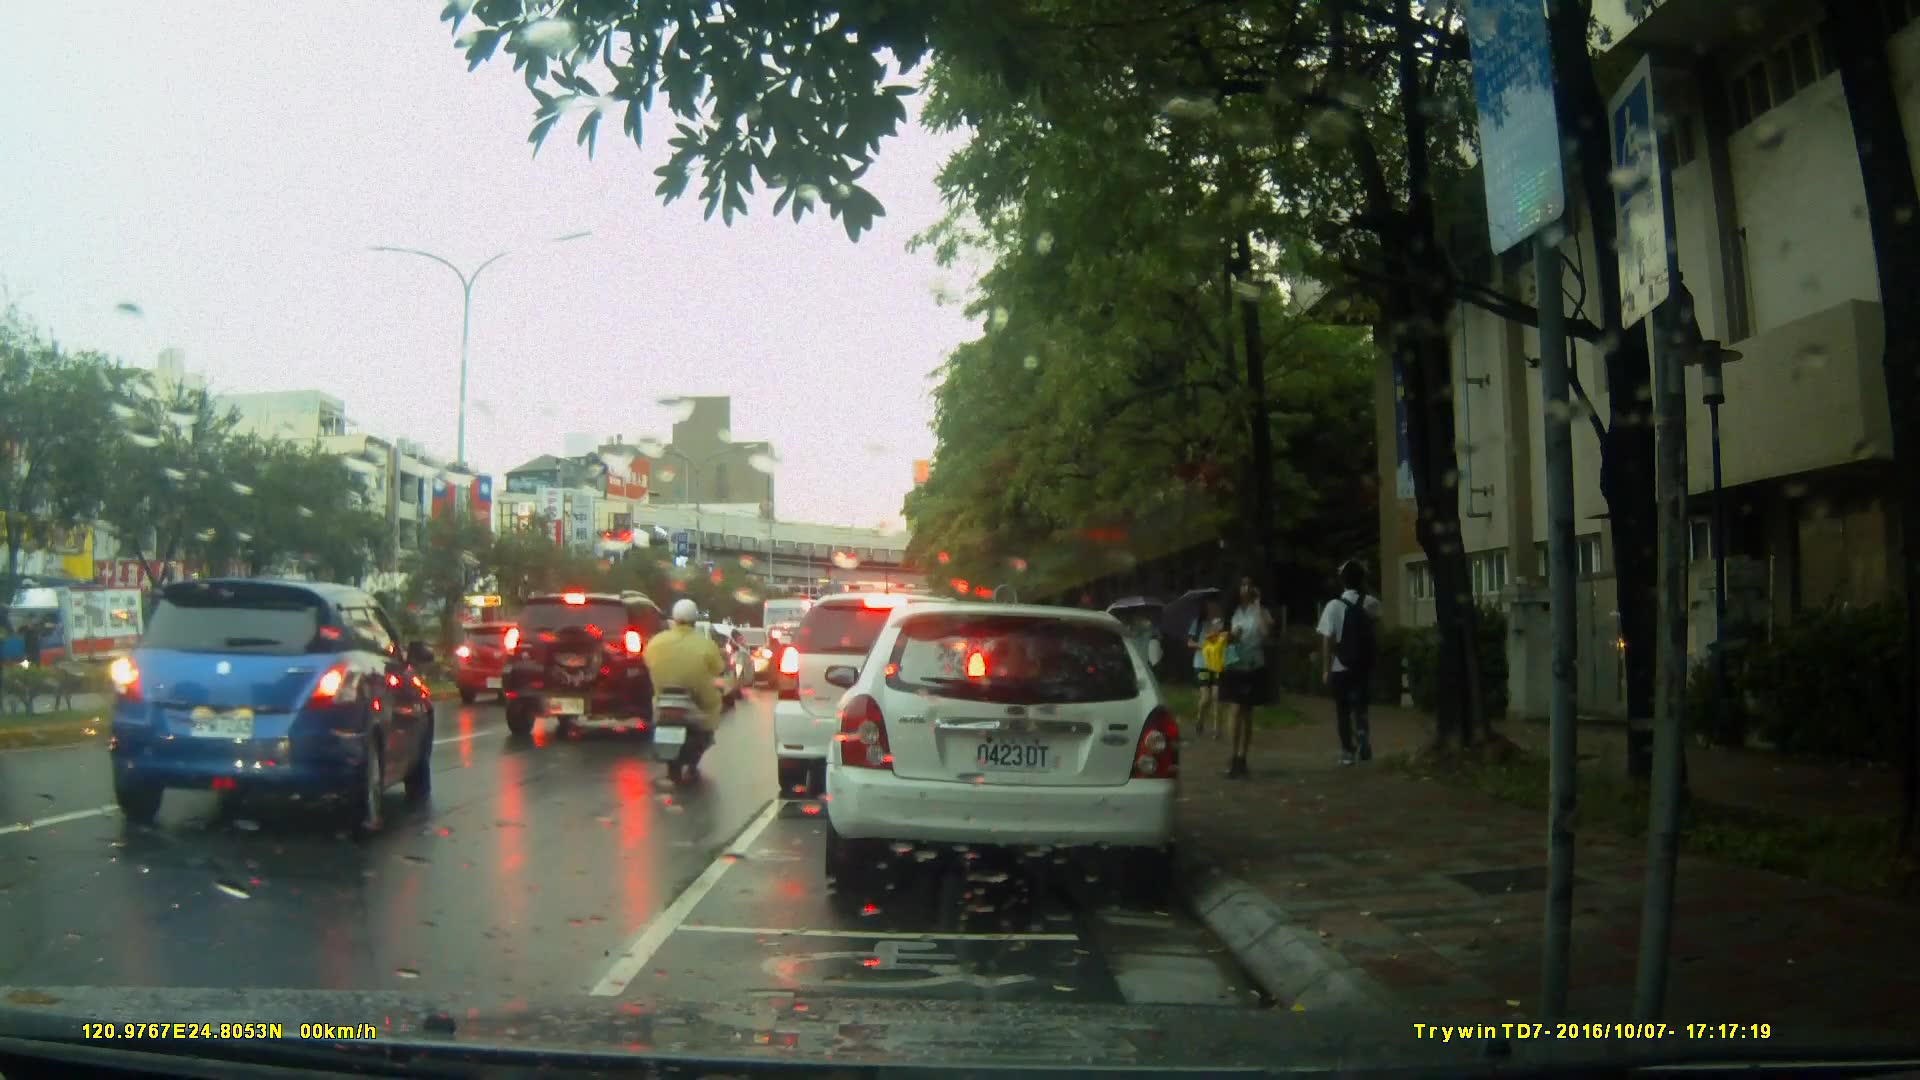pedestrian: (1306, 552, 1388, 775), (1206, 556, 1278, 785), (1183, 588, 1227, 744)
rider: (647, 601, 733, 775)
vehicle: (815, 593, 1203, 907), (104, 580, 439, 840), (771, 590, 995, 802), (502, 591, 693, 740), (1, 584, 150, 686), (449, 616, 578, 705)
